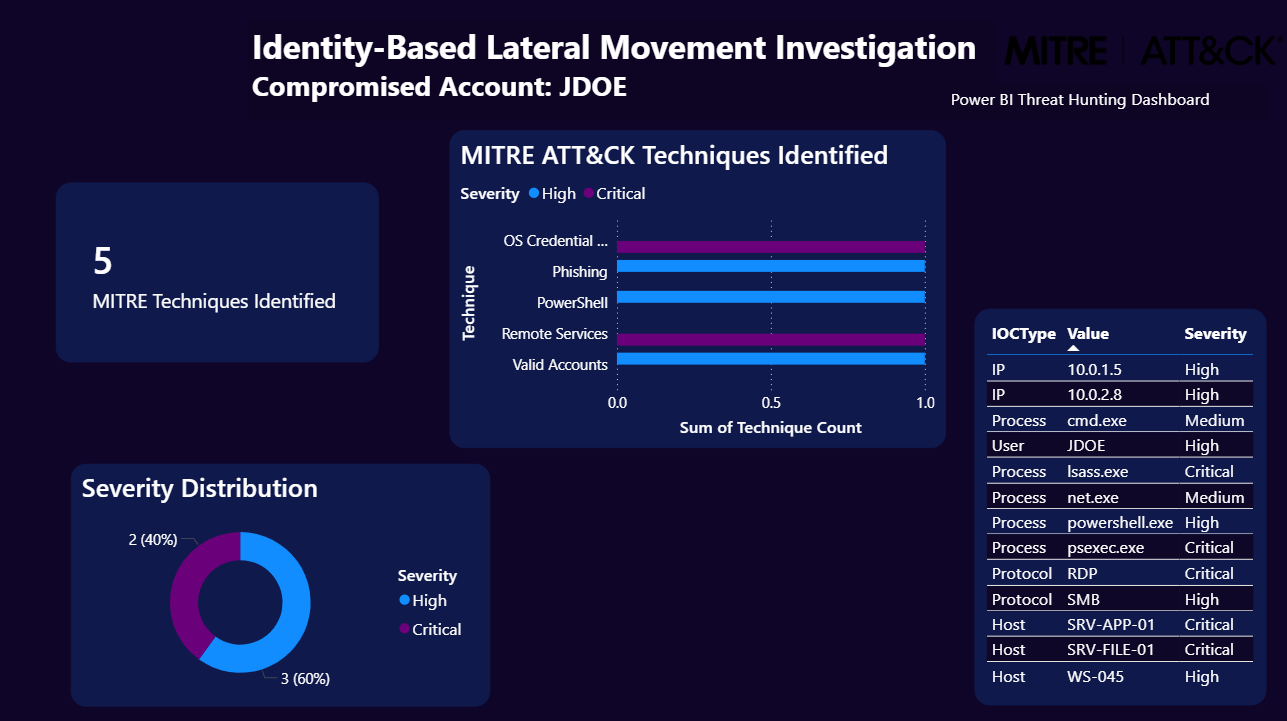

What the dashboard file says about the page in this screenshot:
{"tool":"powerbi","page":{"name":"Threat Intelligence","canvas":[1280,720],"ordinal":4},"visuals":[{"type":"clusteredBarChart","title":"MITRE ATT&CK Techniques Identified","fields":{"Series":["MITRE.Severity"],"Category":["MITRE.Technique"],"Y":["Sum(MITRE.Technique Count)"]},"box":[452.8,131.7,485.8,311.5],"z":0},{"type":"donutChart","title":"Severity Distribution","fields":{"Category":["MITRE.Severity"],"Y":["CountNonNull(MITRE.TechniqueID)"]},"box":[82.3,458.3,410.3,237.4],"z":1000},{"type":"cardVisual","fields":{"Data":["Sum(MITRE.Technique Count)"]},"box":[67.2,183.9,315.6,175.6],"z":2000},{"type":"tableEx","fields":{"Values":["IOC.IOCType","IOC.Value","IOC.Severity"]},"box":[966,307.4,285.4,388.3],"z":3000},{"type":"image","box":[994.9,13.7,273.1,81],"z":4000},{"type":"textbox","box":[254.3,23.2,731.3,99],"z":5000},{"type":"textbox","box":[937.9,85.6,315.5,36.7],"z":6000}]}

Visuals, with their boxes in screenshot pixels (x1, y1, x2, y2), scaled from the page's 1280x720 canvas onto the 1287x721 screenshot:
"MITRE ATT&CK Techniques Identified" clusteredBarChart: rect(455, 132, 944, 444)
"Severity Distribution" donutChart: rect(83, 459, 495, 697)
cardVisual - Sum(MITRE.Technique Count): rect(68, 184, 385, 360)
tableEx - IOC.IOCType x IOC.Value: rect(971, 308, 1258, 697)
image: rect(1000, 14, 1275, 95)
textbox: rect(256, 23, 991, 122)
textbox: rect(943, 86, 1260, 122)
